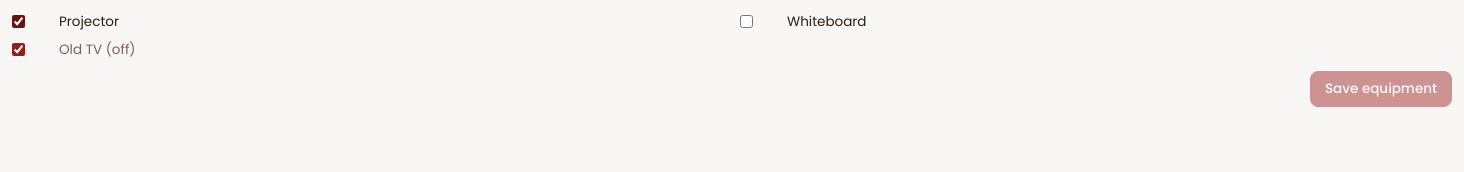
RoomEquipment › saves only when the set changed, and drops an unticked inactive item for good
The image size is (1464, 172).
Expected: the button "Save equipment" is disabled, [1310, 71, 1452, 107]
Click the checkbox labelled "Old TV (off)" at (18, 49), box [12, 43, 25, 56]
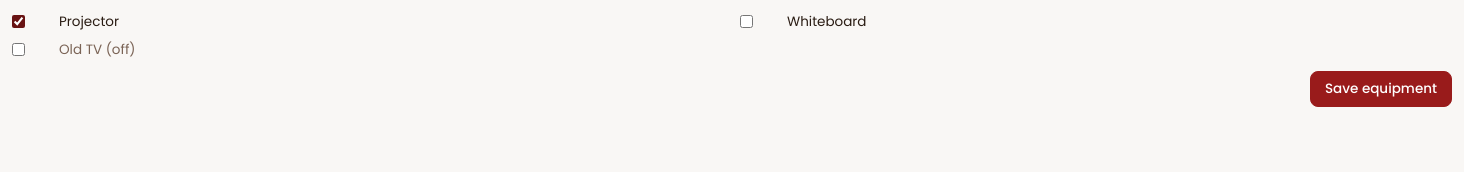
Expected: the button "Save equipment" is enabled
Click the button "Save equipment" at (1381, 89), box [1310, 71, 1452, 107]
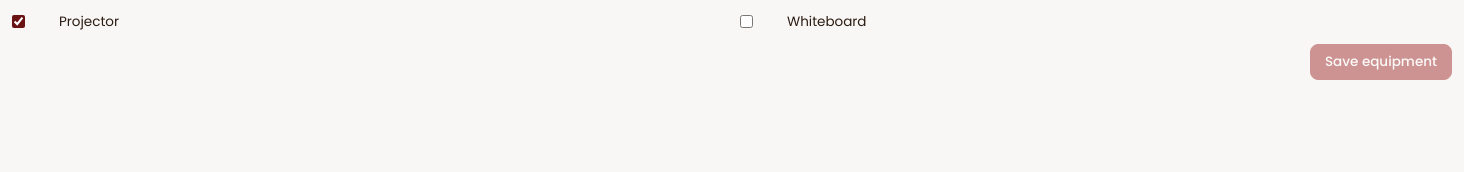
Expected: the elements with class "check" read "Projector", "Whiteboard", in this order, [12, 12, 119, 31]; [740, 12, 866, 31]
